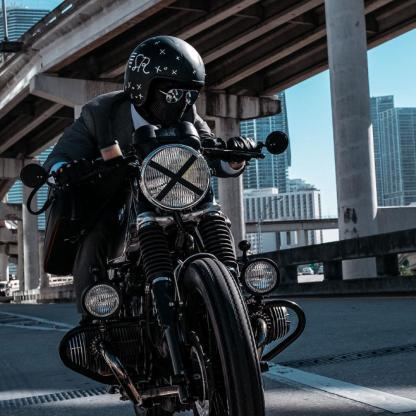helmet: (123, 36, 206, 125)
